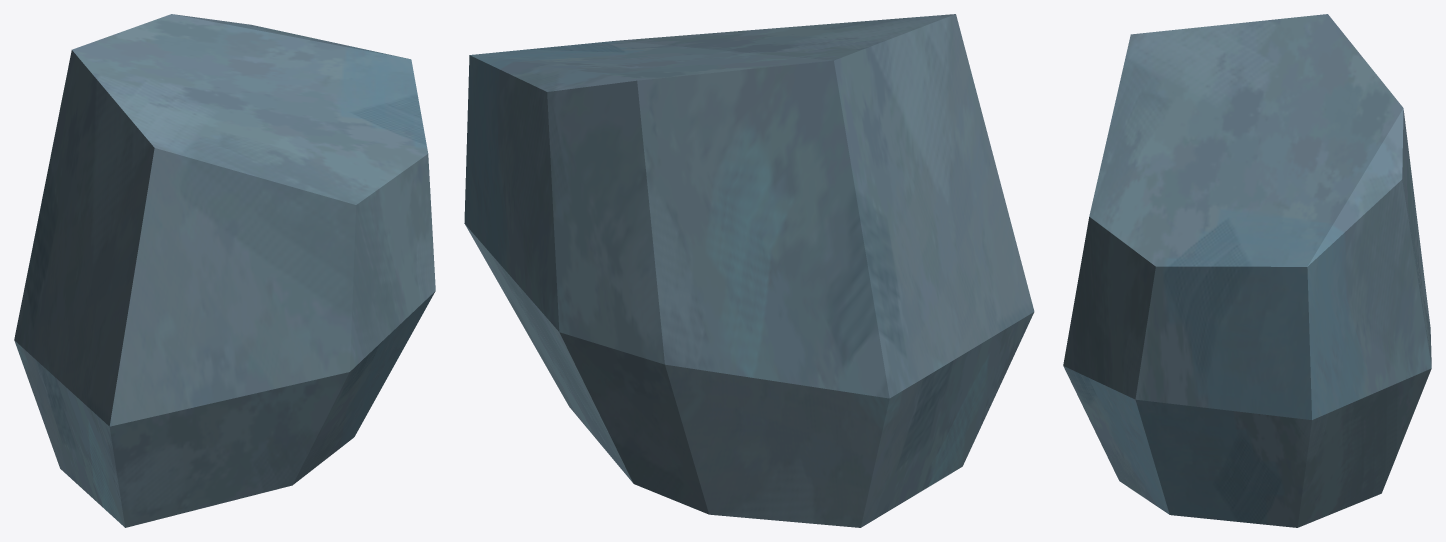
File: stone9.fbx
3 views of the same model, side by side, from view 1: azimuth 30°, elevation 25°; view 2: azimuth 150°, elevation 25°; view 3: azimuth 270°, elevation 25° (orthographic). The views are drawn at different scales.
Visible parts, largest first — view 1: stone9; view 2: stone9; view 3: stone9.
Part boxes in pixels (x1=…): stone9: x1=14, y1=14, x2=435, y2=527; stone9: x1=464, y1=14, x2=1034, y2=527; stone9: x1=1063, y1=14, x2=1431, y2=527.
Bounding box in the file's own units: 556 × 543 × 426.
